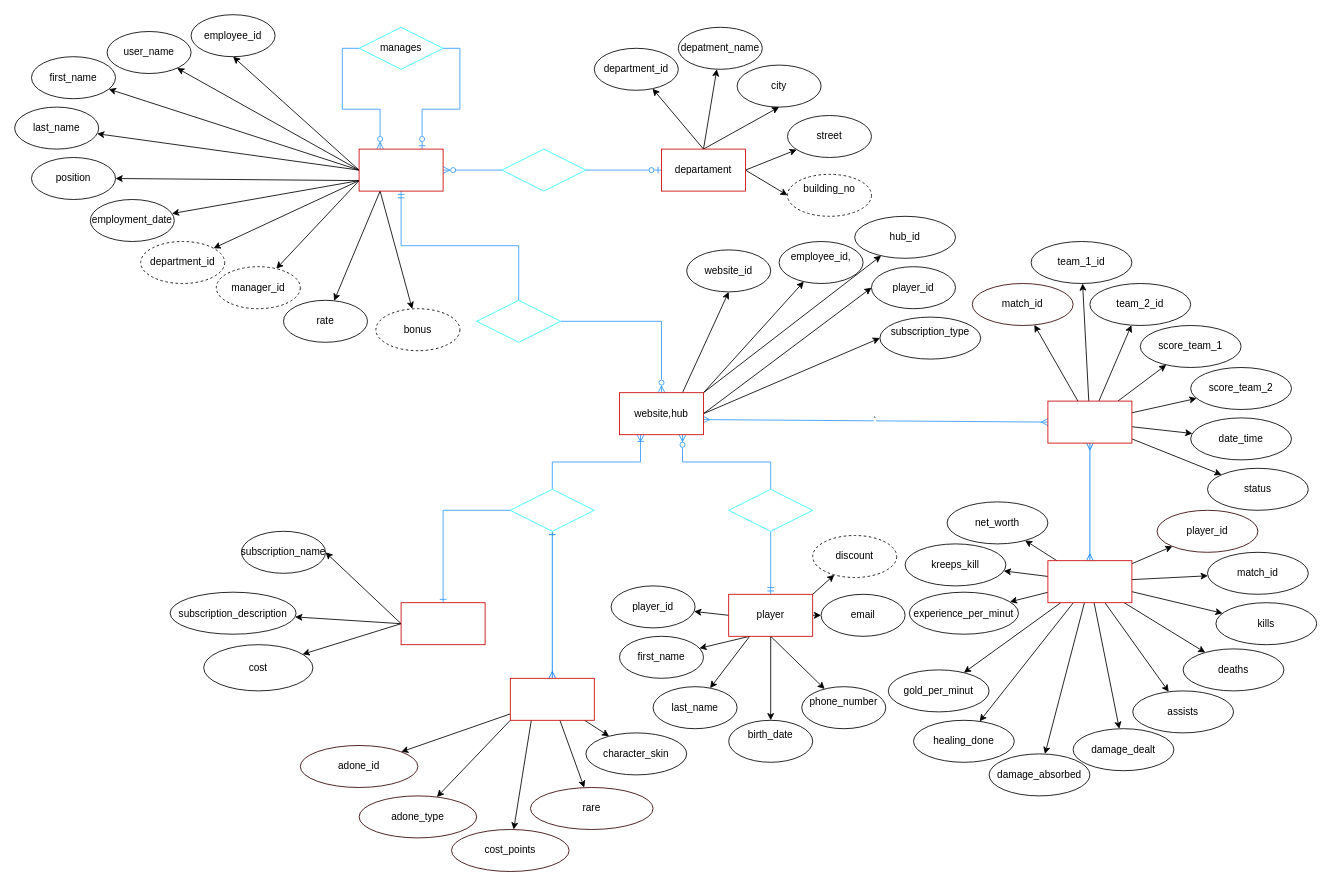
This 1331x886 diagram has some shape labels left out. Each missing label, with the box of its shape:
adone: (509, 677, 594, 720)
buys: (509, 488, 594, 531)
employee: (358, 148, 443, 191)
manages_for: (501, 148, 586, 191)
match: (1047, 400, 1132, 443)
match stats: (1047, 560, 1132, 603)
server: (476, 299, 561, 342)
subscription: (400, 602, 485, 645)
use: (728, 488, 813, 531)
